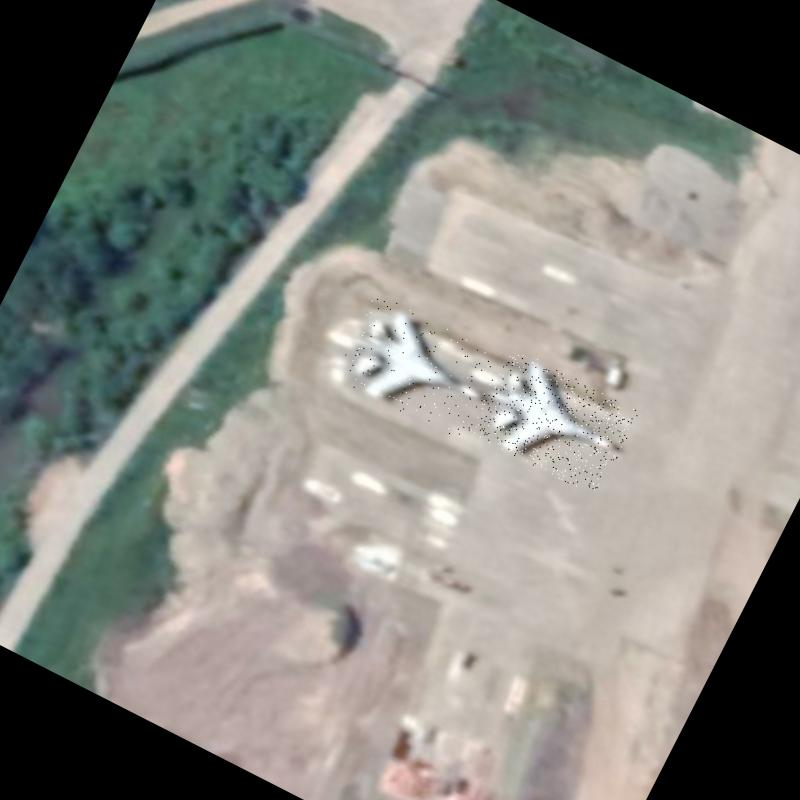A1: (332, 292, 506, 443), (469, 346, 640, 497)
